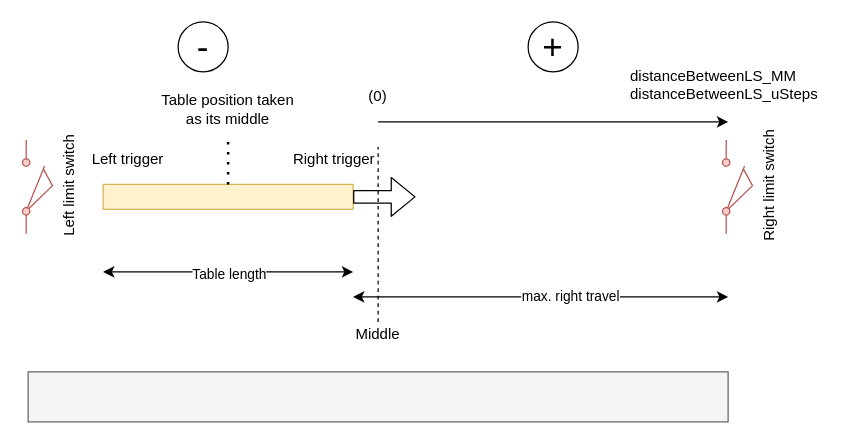
Some shapes in this 849 by 444 pixel diagram are drawn without their labels. The box of each missing label's shape, as (x1, y1, x2, y2) in pixels:
Shake Table Frame: (27, 371, 728, 422)
Table: (102, 183, 353, 209)
